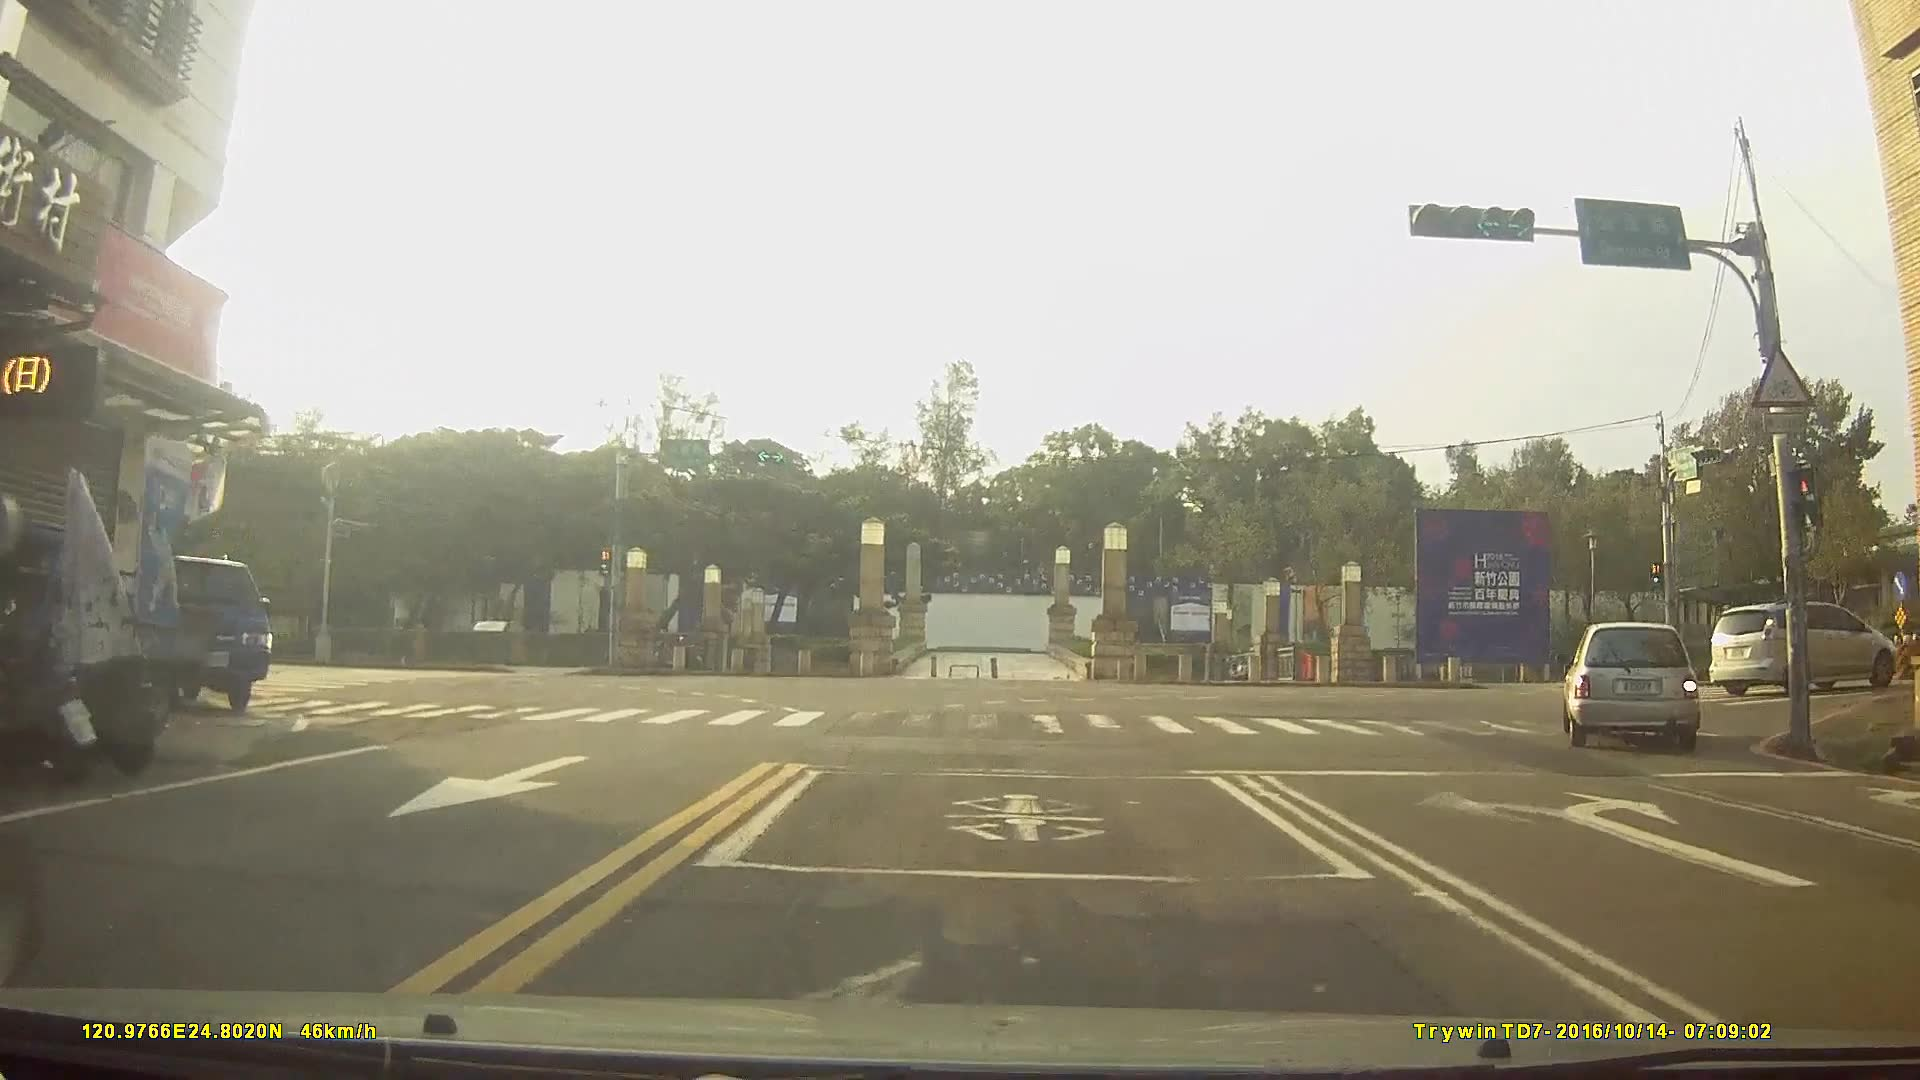vehicle: (145, 551, 270, 713), (1560, 618, 1701, 748), (1706, 597, 1895, 694)
